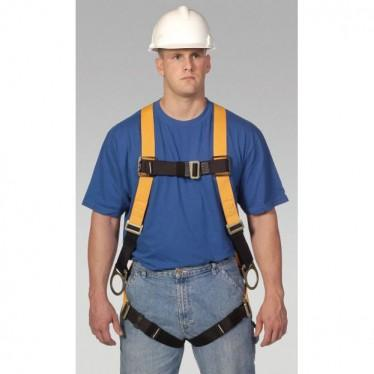helmet: (150, 7, 216, 52)
